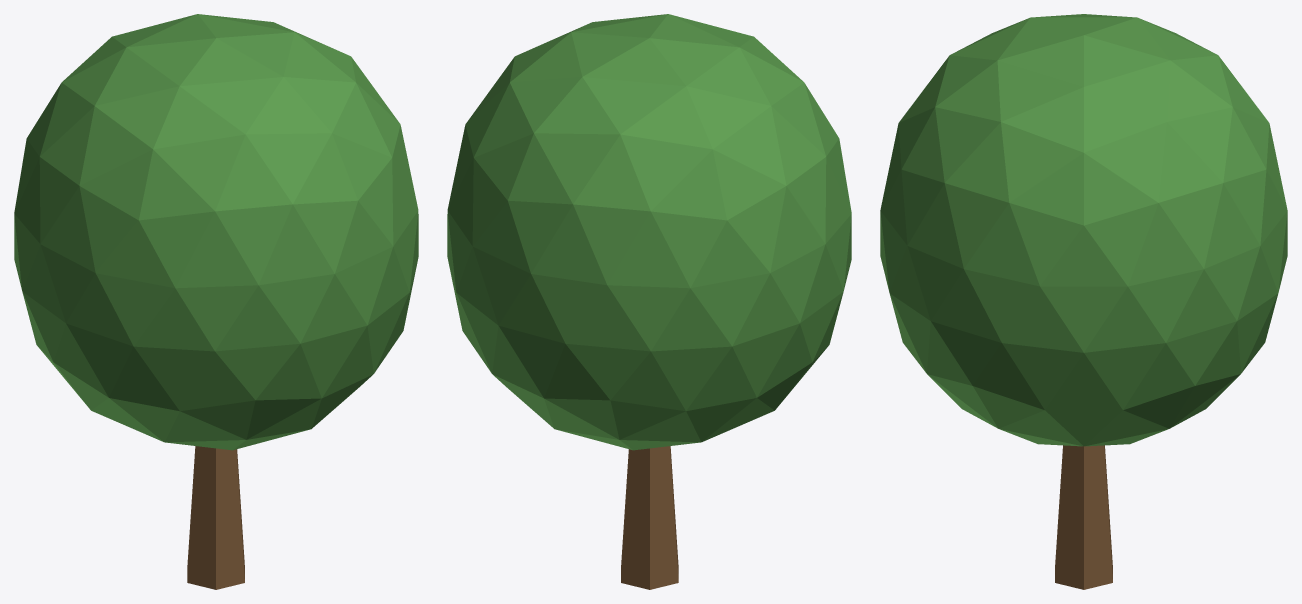
The model's file is tree3d-097.glb.
The picture shows the model from 3 angles, left to right: view 1: azimuth 30°, elevation 25°; view 2: azimuth 150°, elevation 25°; view 3: azimuth 270°, elevation 25°; orthographic projection.
Parts seen in each view (by area): view 1: tree3d-097; view 2: tree3d-097; view 3: tree3d-097.
Boxes of the visible parts, left/top/right/bottom form: tree3d-097: left=14, top=14, right=418, bottom=589; tree3d-097: left=447, top=14, right=851, bottom=589; tree3d-097: left=880, top=14, right=1287, bottom=589.
Bounding box in the file's own units: 0.6852 × 1 × 0.6833.
